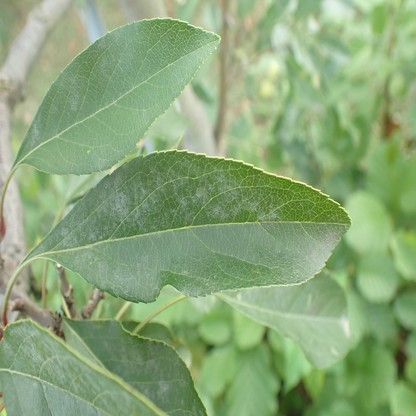powdery_mildew: (35, 151, 350, 300), (16, 15, 220, 172), (85, 319, 206, 415), (3, 326, 130, 413), (236, 280, 319, 311), (342, 318, 351, 337)
